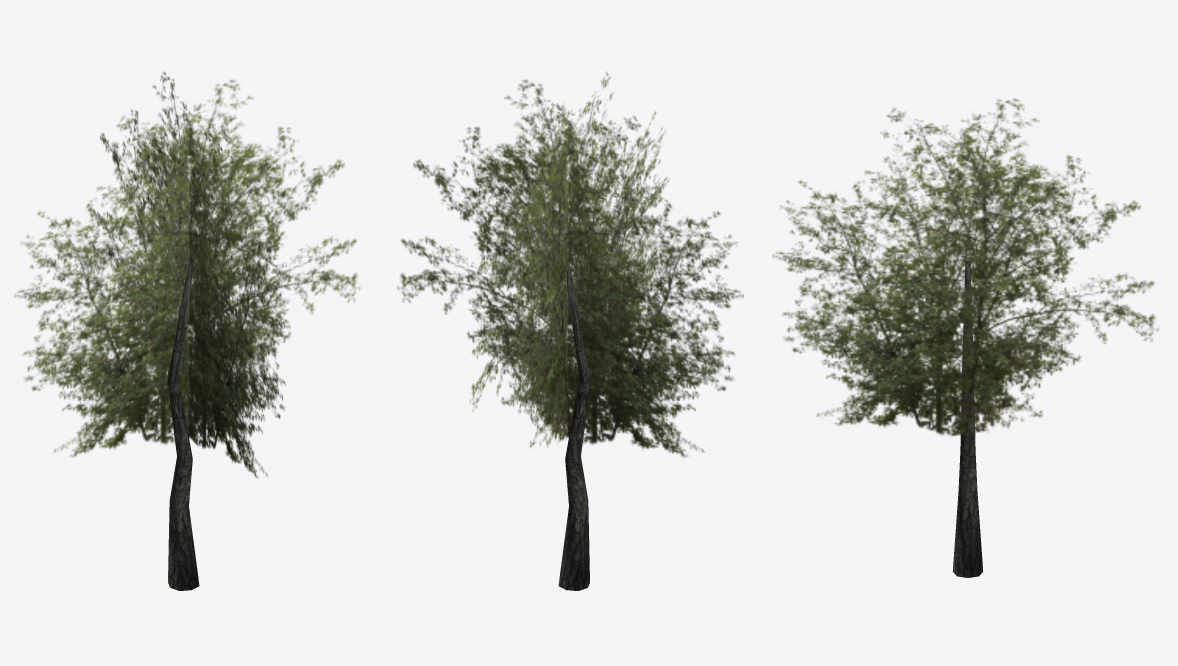
File: tree5.glb
3 renders of one model, left to right at view 1: azimuth 30°, elevation 25°; view 2: azimuth 150°, elevation 25°; view 3: azimuth 270°, elevation 25°, orthographic. The views are drawn at different scales.
Parts seen in each view (by area): view 1: tree5; view 2: tree5; view 3: tree5.
Part boxes in pixels (<box>): tree5: <box>14,72,360,590</box>; tree5: <box>397,72,743,590</box>; tree5: <box>772,98,1158,577</box>.
Bounding box in the file's own units: 0.75 × 1.01 × 0.75.
2 materials, 2 textured.
